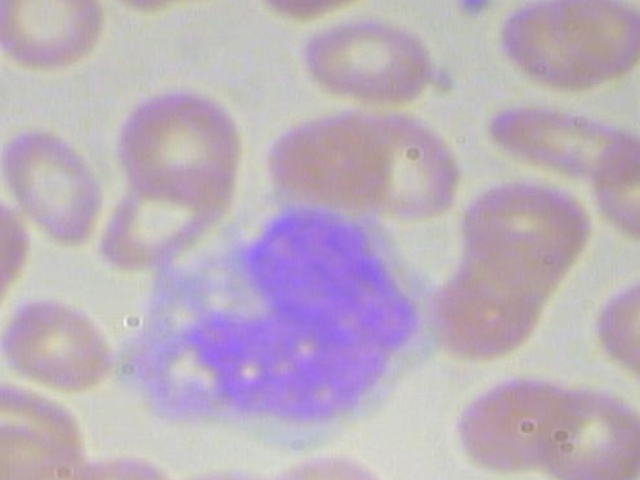RBC: (118, 80, 249, 202), (91, 163, 234, 269), (290, 13, 442, 111), (444, 365, 590, 467), (484, 94, 640, 185), (0, 277, 110, 399), (0, 124, 107, 245), (0, 0, 109, 94)
WBC: (112, 199, 443, 438)
